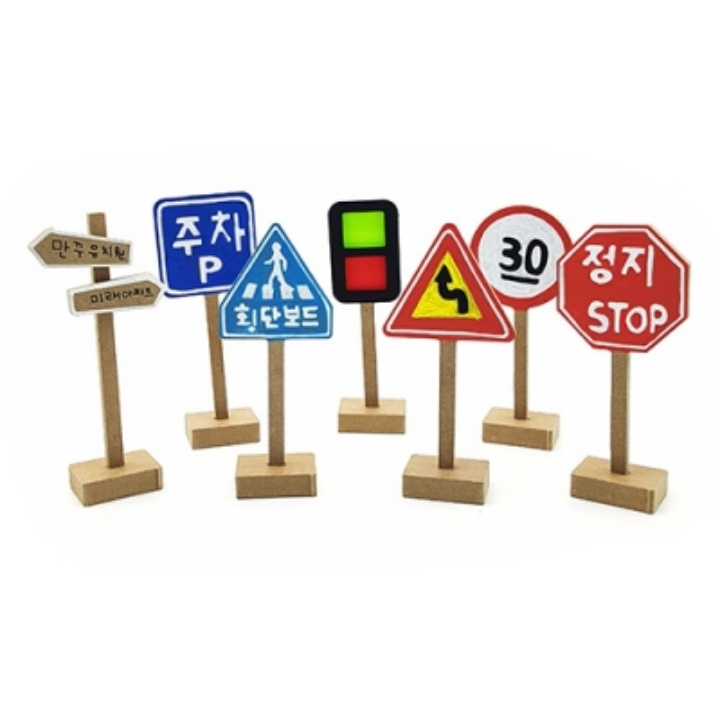cross: (260, 235, 298, 295)
parking: (195, 252, 226, 286)
